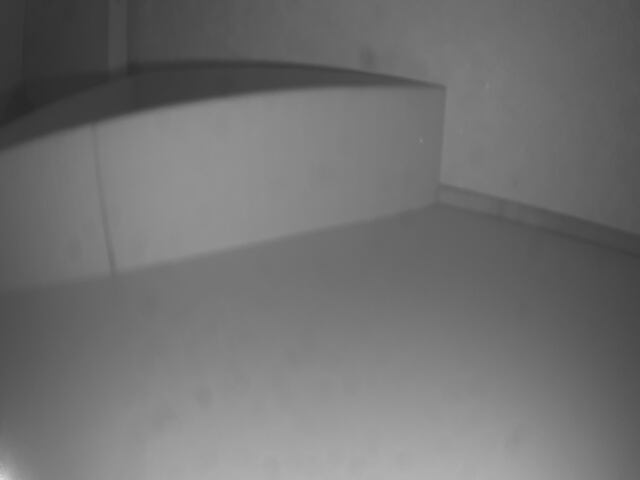Point: (3, 87, 446, 298)
